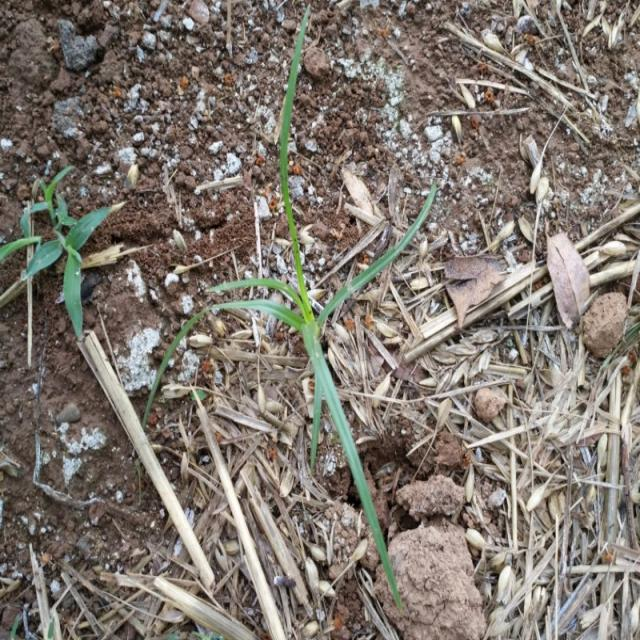sedge: (178, 41, 446, 561)
